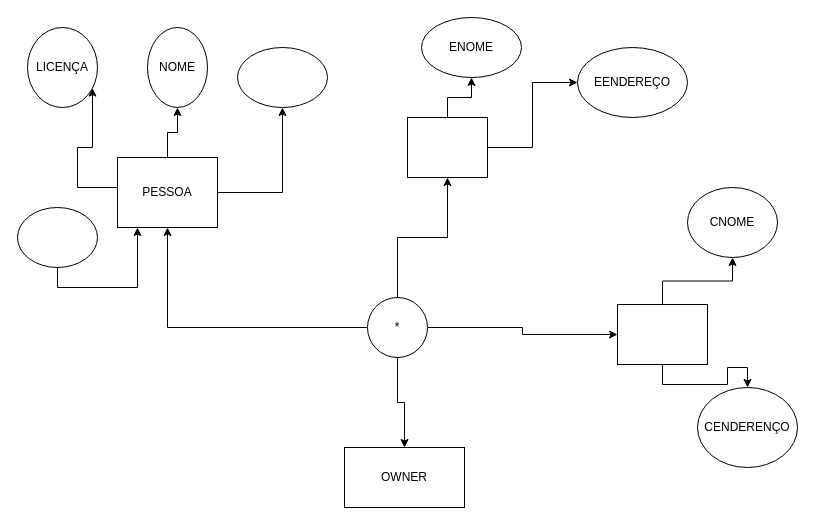
Image size: 815x525. Some labels were removed from this diagram. Here are the shapes that lost their labels. From the top down, the centre of each, then its label:
At (x=282, y=77): "ENDERENÇO".
At (x=447, y=147): "BANCO".
At (x=57, y=237): "CPF".
At (x=662, y=334): "COMPANY".
